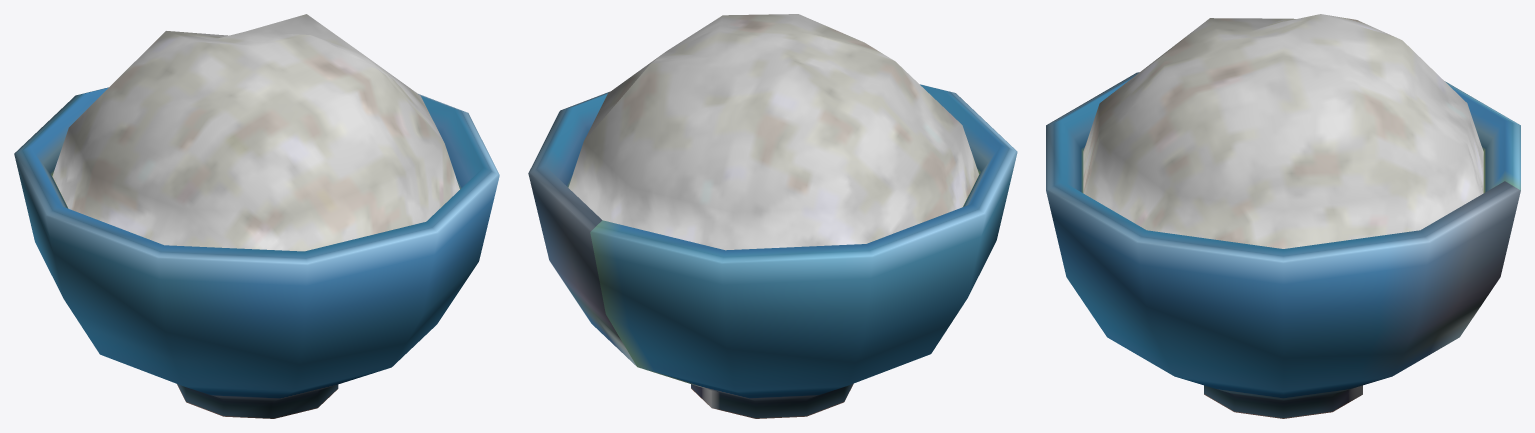
File: arroz.fbx
3 renders of one model, left to right at view 1: azimuth 30°, elevation 25°; view 2: azimuth 150°, elevation 25°; view 3: azimuth 270°, elevation 25°, orthographic. The views are drawn at different scales.
Visible parts, largest first — view 1: Watermelon; view 2: Watermelon; view 3: Watermelon.
Boxes of the visible parts, x1,y1,x2,y2 form: Watermelon: [14, 14, 499, 418]; Watermelon: [528, 14, 1017, 418]; Watermelon: [1046, 14, 1520, 418].
Bounding box in the file's own units: 135 × 104 × 128.
